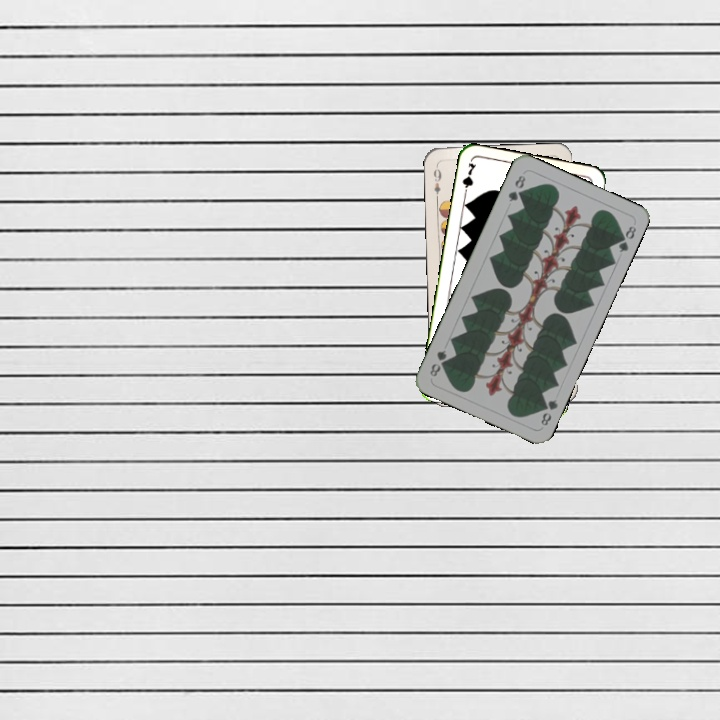E9: (429, 161, 444, 202)
G7: (458, 159, 479, 199)
G8: (504, 171, 528, 204), (536, 395, 560, 428)
